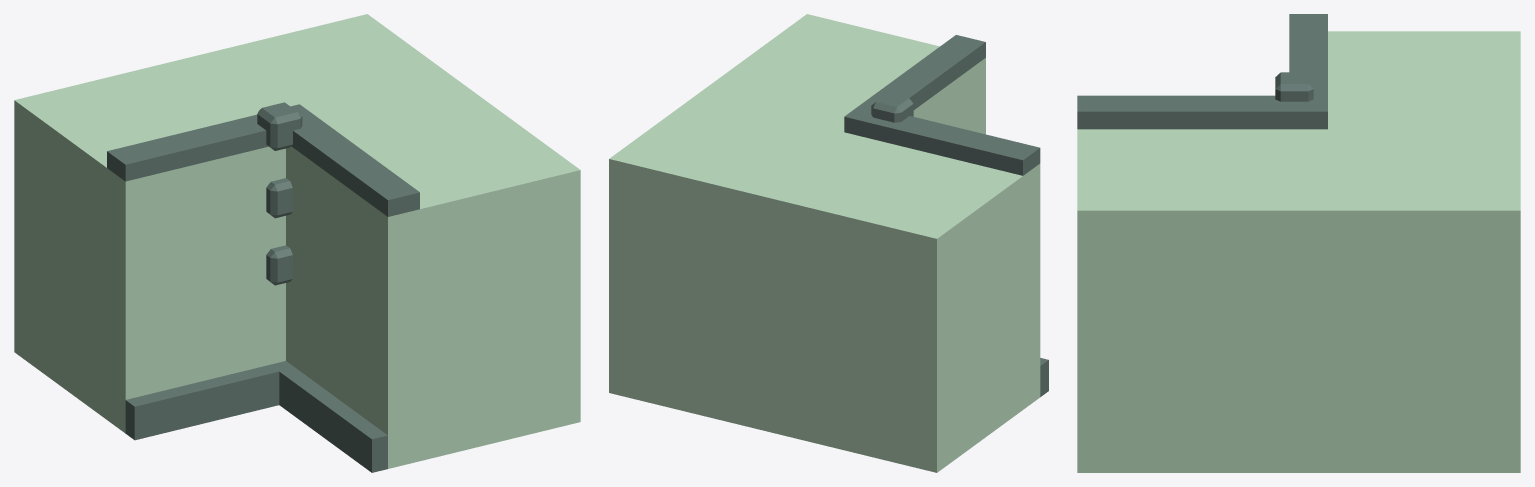
Rendered from GroundConvex.fbx.
The picture shows the model from 3 angles, left to right: view 1: azimuth 30°, elevation 25°; view 2: azimuth 150°, elevation 25°; view 3: azimuth 270°, elevation 25°; orthographic projection. The views are drawn at different scales.
Visible parts, largest first — view 1: GroundConvex; view 2: GroundConvex; view 3: GroundConvex.
Boxes of the visible parts, x1=… form: GroundConvex: x1=14, y1=14, x2=580, y2=472; GroundConvex: x1=609, y1=14, x2=1048, y2=472; GroundConvex: x1=1077, y1=14, x2=1520, y2=472.
Bounding box in the file's own units: 2.2 × 1.69 × 2.3.
